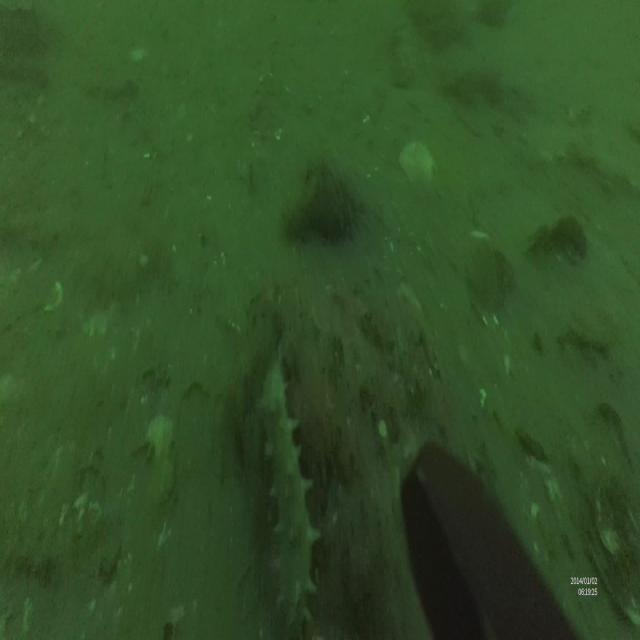holothurian: (259, 357, 319, 638)
